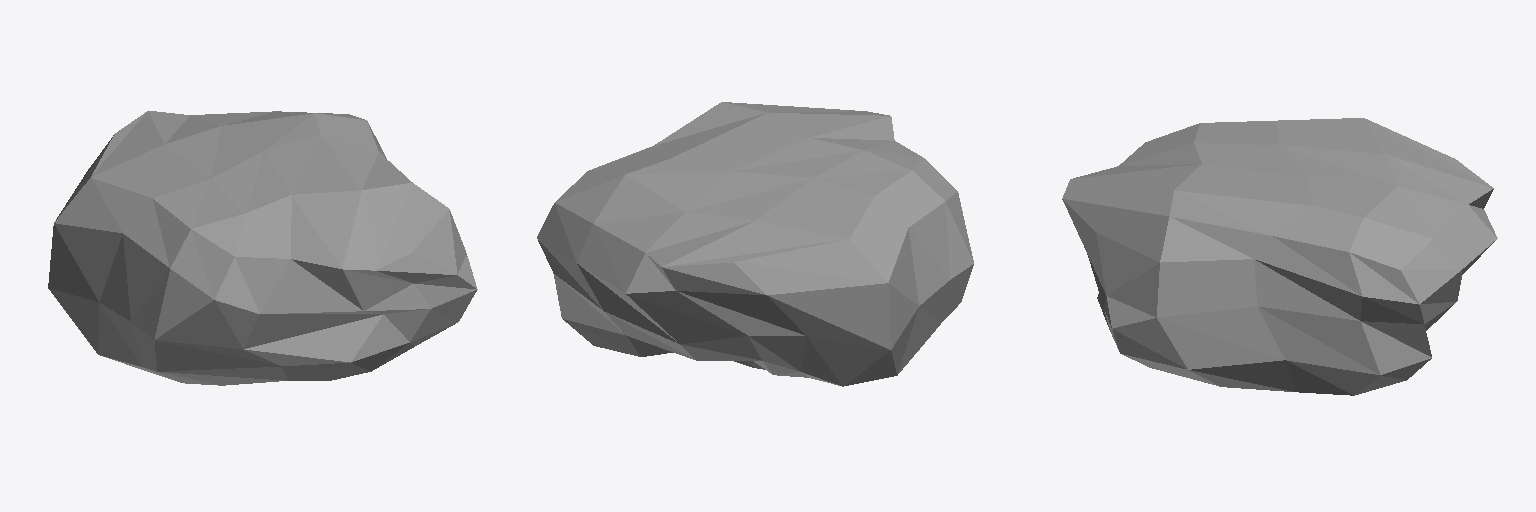
Rendered from rock.obj.
The picture shows the model from 3 angles: view 1: azimuth 30°, elevation 25°; view 2: azimuth 150°, elevation 25°; view 3: azimuth 270°, elevation 25°; orthographic projection.
Parts seen in each view (by area): view 1: Cube.001; view 2: Cube.001; view 3: Cube.001.
Boxes of the visible parts, x1=… form: Cube.001: x1=48, y1=111, x2=477, y2=385; Cube.001: x1=537, y1=102, x2=973, y2=386; Cube.001: x1=1062, y1=118, x2=1497, y2=395.
Size of the model in its own units: 1.55 by 0.822 by 1.77.